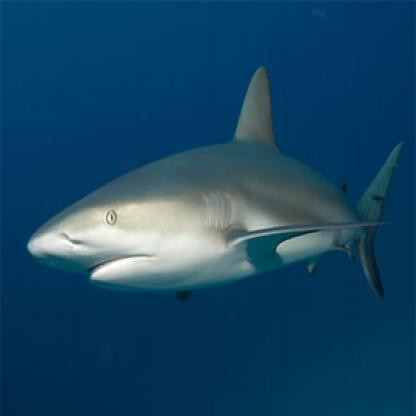Shark -Selachimorpha-: (22, 50, 411, 313)
